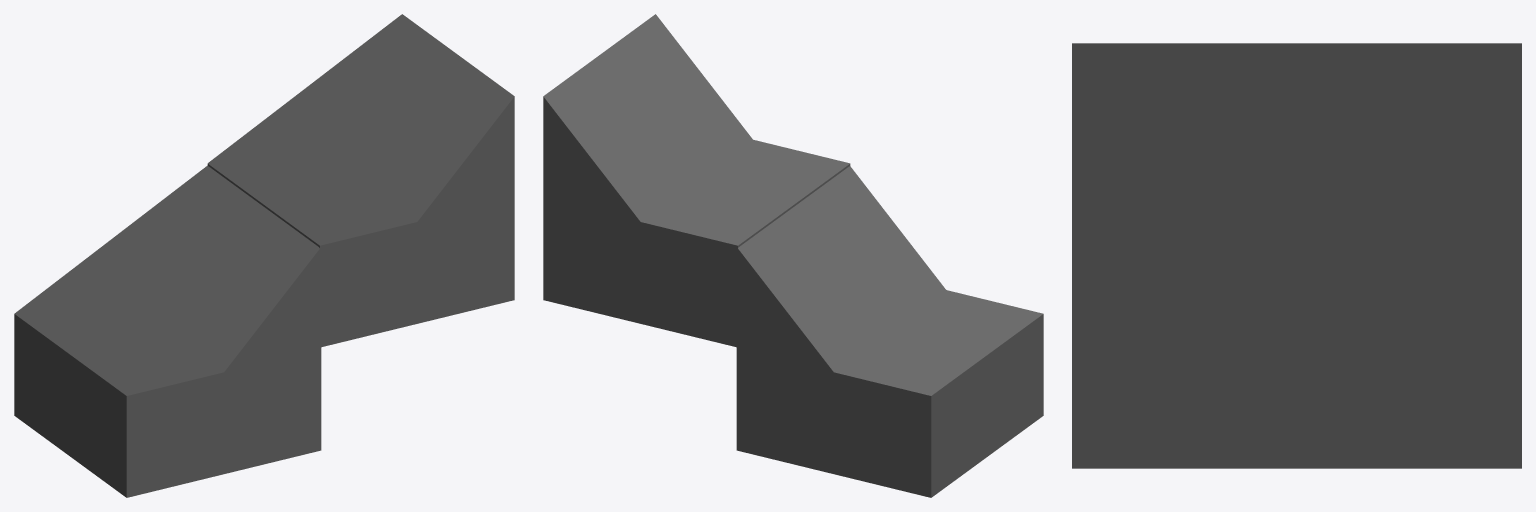
File: Stair.fbx
3 renders of one model, left to right at view 1: azimuth 30°, elevation 25°; view 2: azimuth 150°, elevation 25°; view 3: azimuth 270°, elevation 25°, orthographic. The views are drawn at different scales.
Visible parts, largest first — view 1: Cube.001; view 2: Cube.001; view 3: Cube.001.
Boxes of the visible parts, x1,y1,x2,y2 form: Cube.001: (14, 14, 514, 497); Cube.001: (543, 14, 1043, 497); Cube.001: (1072, 43, 1521, 468).
Bounding box in the file's own units: 398 × 301 × 200.
1 material, 1 textured.
